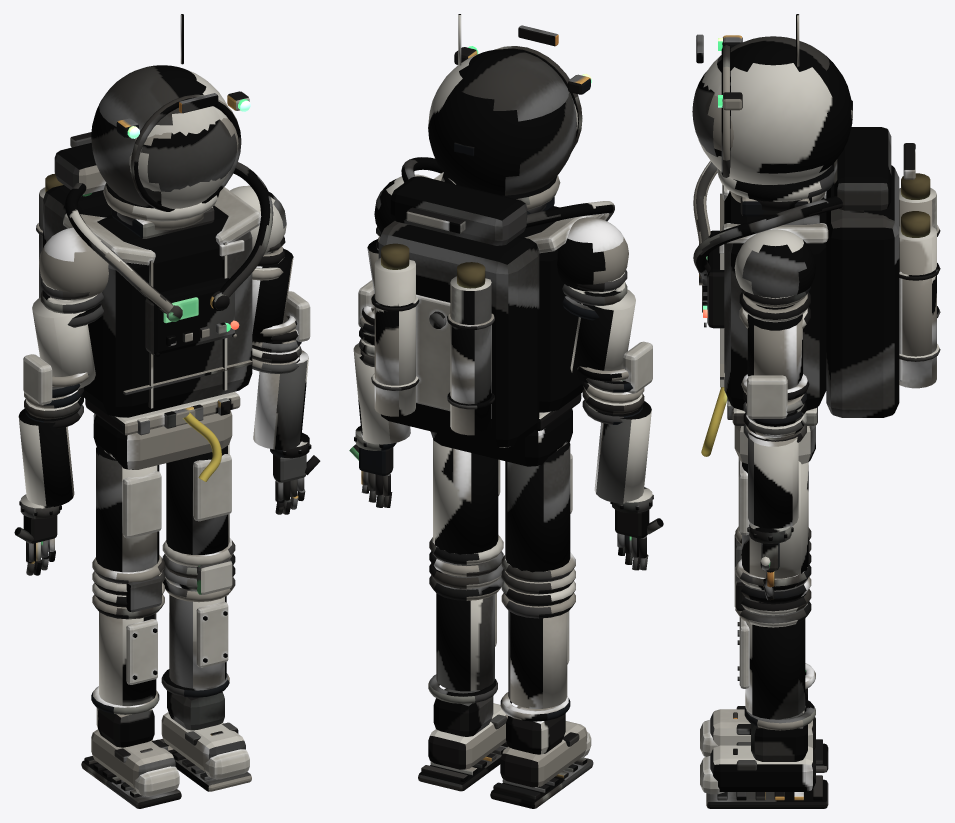
The model's file is airlock_suit.glb.
3 views of the same model, side by side, from view 1: azimuth 30°, elevation 25°; view 2: azimuth 150°, elevation 25°; view 3: azimuth 270°, elevation 25° (orthographic). The views are drawn at different scales.
Parts seen in each view (by area): view 1: SpaceSuit; view 2: SpaceSuit; view 3: SpaceSuit.
Boxes of the visible parts, x1,y1,x2,y2 form: SpaceSuit: [14, 14, 320, 808]; SpaceSuit: [349, 14, 663, 808]; SpaceSuit: [692, 14, 940, 808].
Bounding box in the file's own units: 0.9081 × 2.12 × 0.6098.
12 materials, 12 textured.
